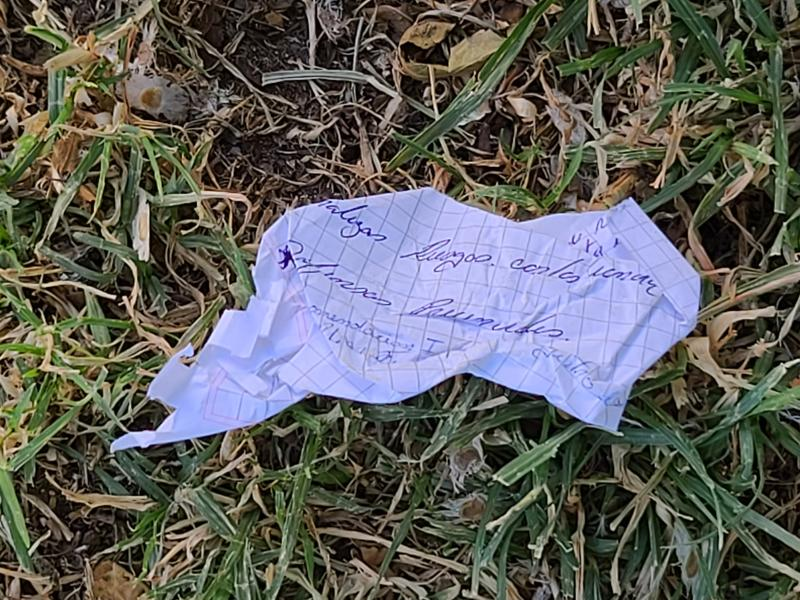papel: (110, 188, 704, 452)
